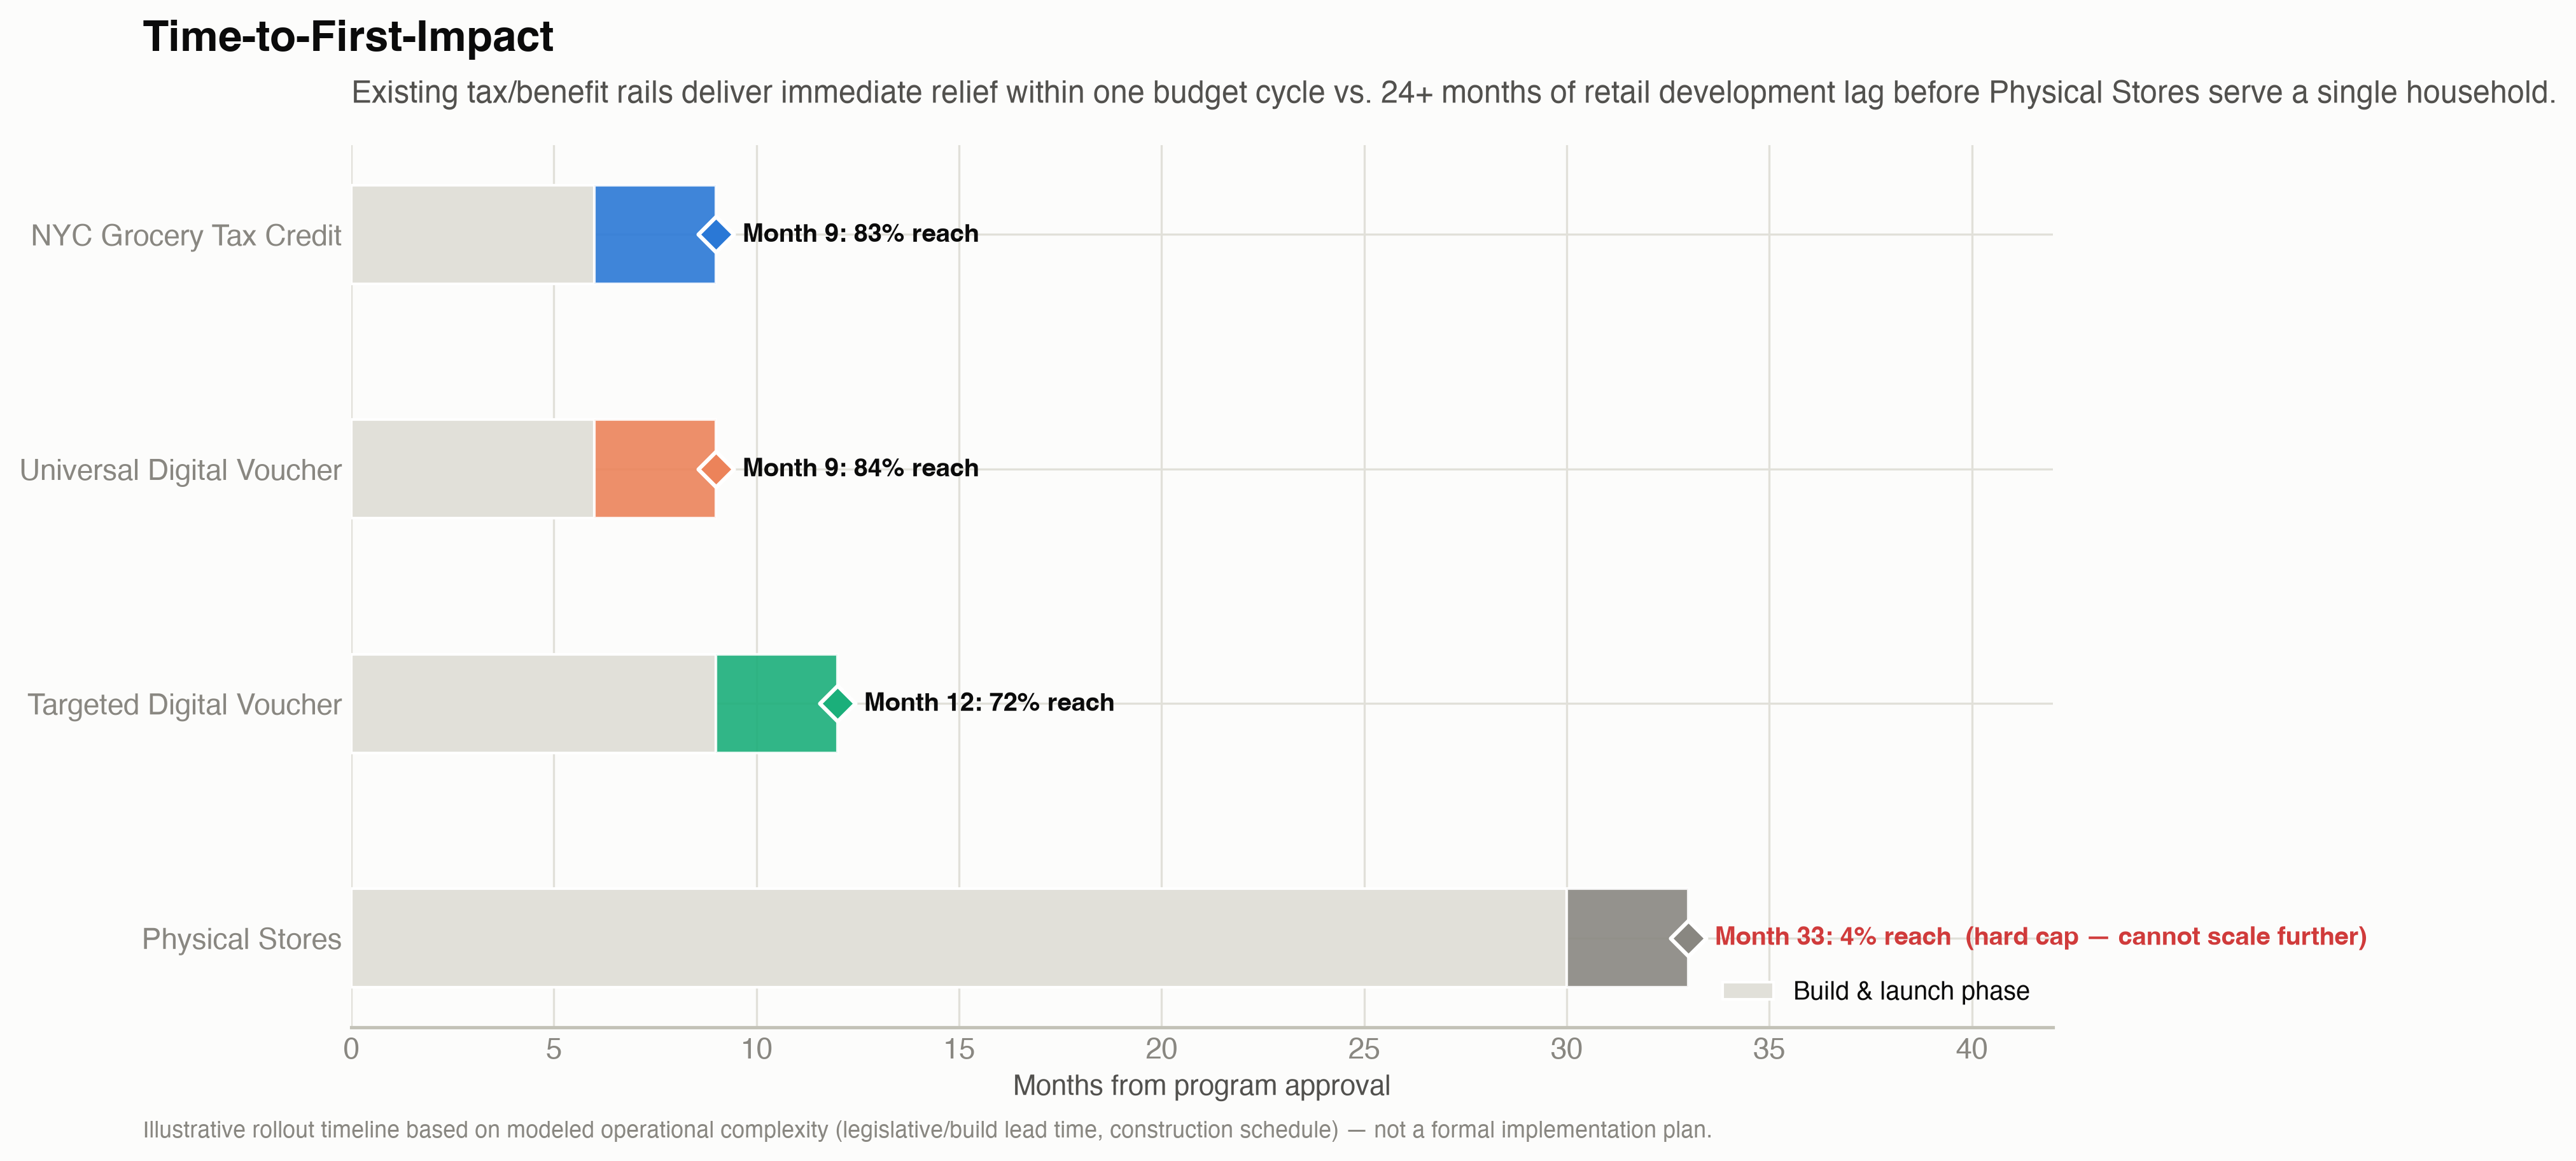

Layout of this report page (visuals, bound fields, positions):
{"tool":"tableau","page":{"name":"Executive Decision Summary","canvas":[2000,1600],"ordinal":0},"visuals":[{"type":"text","param":"vert","box":[0,0,2000,96]}]}

Visuals, with their boxes on the page's 2000x1600 design canvas (x1, y1, x2, y2). These are canvas units, not pixel positions in the 2576x1161 screenshot, which may show the page scaled, cropped or inside an application window:
text: <bbox>0, 0, 2000, 96</bbox>
